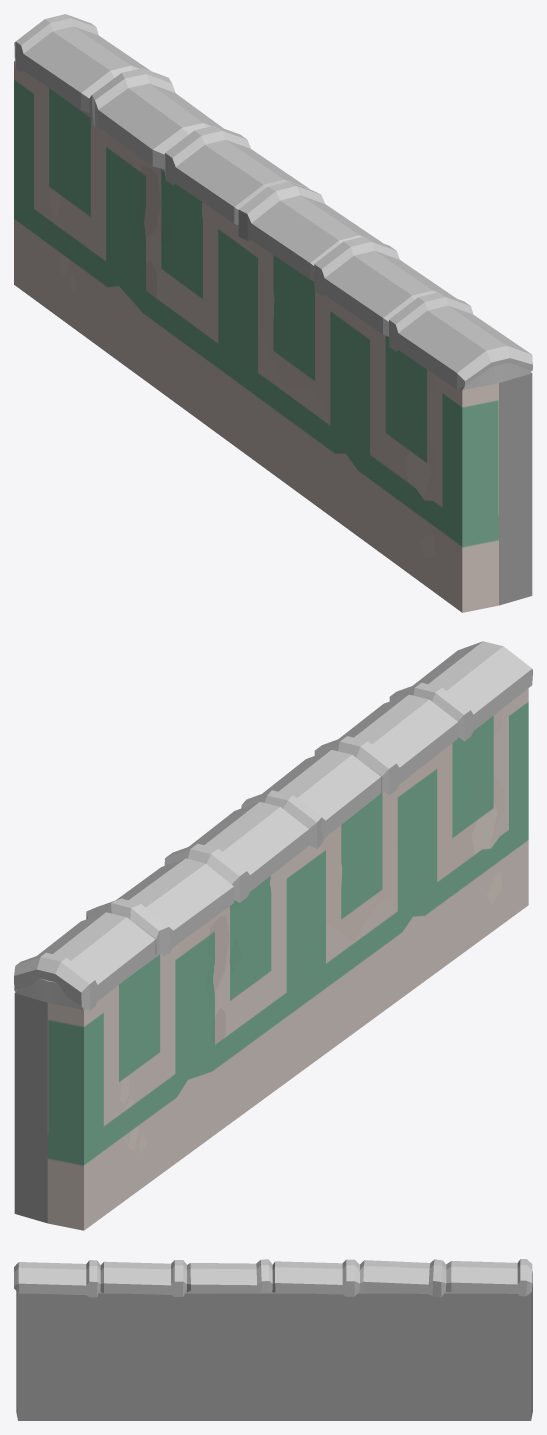
The model's file is SM_Bld_Roof_Base_Flat_Side_01.fbx.
3 views of the same model, one above another, from view 1: azimuth 30°, elevation 25°; view 2: azimuth 150°, elevation 25°; view 3: azimuth 270°, elevation 25° (orthographic). The views are drawn at different scales.
Visible parts, largest first — view 1: SM_Bld_Roof_Base_Flat_Side_01; view 2: SM_Bld_Roof_Base_Flat_Side_01; view 3: SM_Bld_Roof_Base_Flat_Side_01.
Part boxes in pixels (<box>): SM_Bld_Roof_Base_Flat_Side_01: <box>14,14,532,612</box>; SM_Bld_Roof_Base_Flat_Side_01: <box>14,641,532,1230</box>; SM_Bld_Roof_Base_Flat_Side_01: <box>14,1259,532,1420</box>.
Size of the model in its own units: 26.57 by 80.58 by 253.
